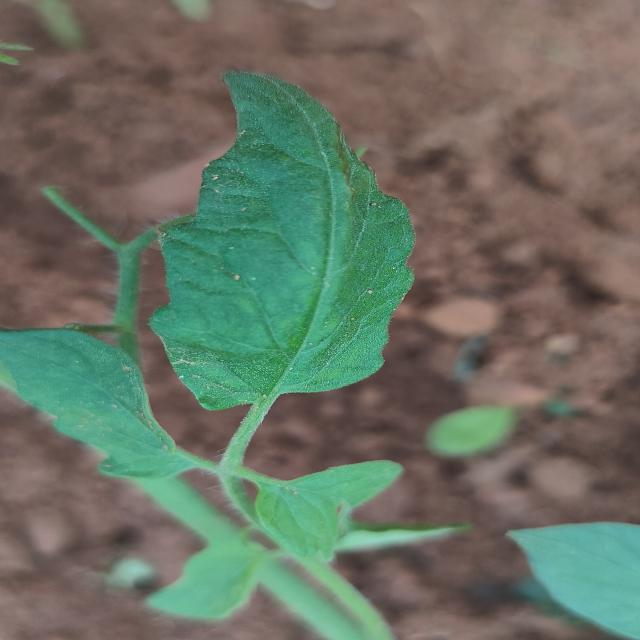tomato_healthy: (151, 69, 419, 414)
